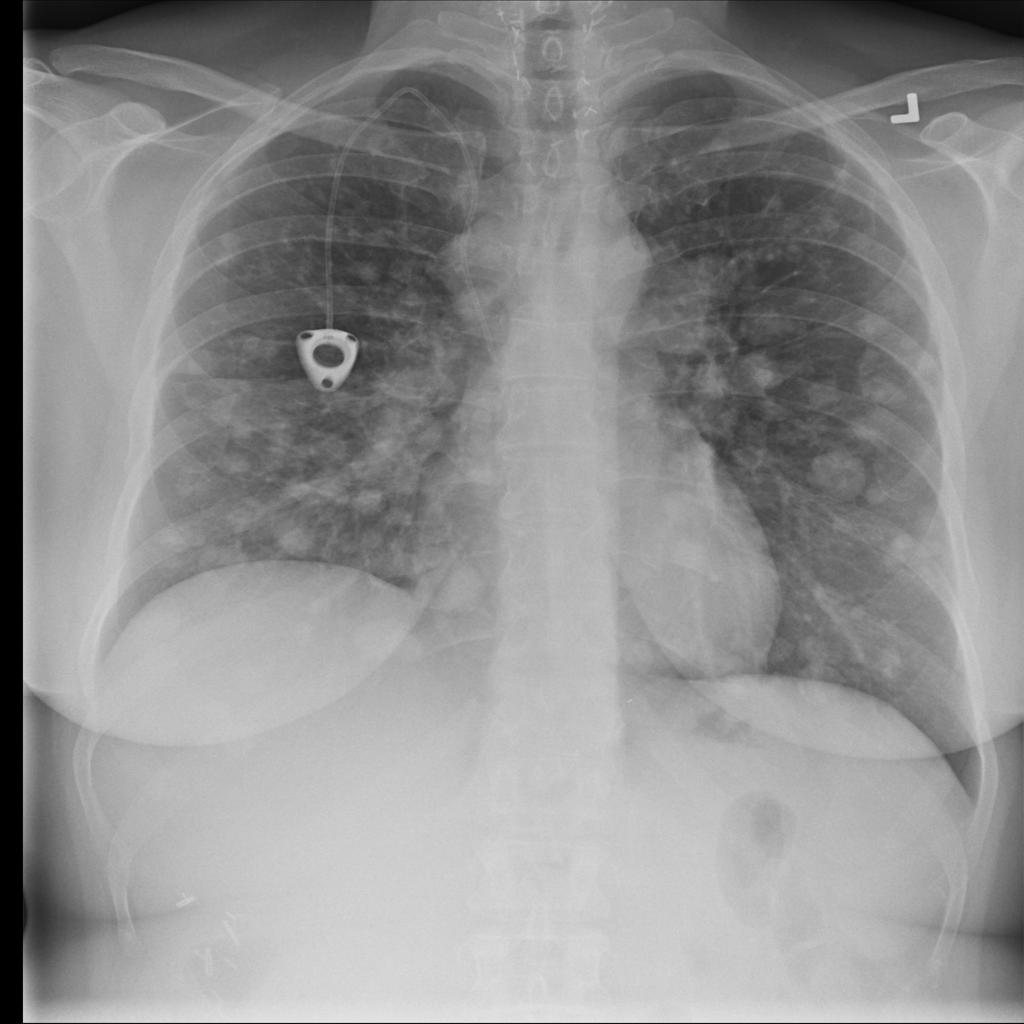nodule: (631, 252, 741, 358), (344, 600, 429, 672), (421, 550, 496, 624), (191, 372, 270, 437), (796, 443, 878, 505), (792, 615, 865, 682), (731, 291, 806, 351), (840, 407, 903, 452), (686, 362, 741, 412), (150, 516, 212, 560), (195, 532, 253, 578), (856, 366, 911, 414), (272, 517, 328, 564), (161, 460, 217, 506), (205, 445, 262, 490), (865, 637, 916, 687), (224, 322, 283, 365), (202, 226, 252, 276), (616, 629, 665, 680), (738, 352, 792, 398), (871, 529, 925, 575), (336, 483, 391, 527), (848, 301, 904, 343), (794, 373, 851, 414), (214, 493, 267, 537), (895, 333, 945, 379), (858, 481, 912, 523), (343, 251, 386, 285)
